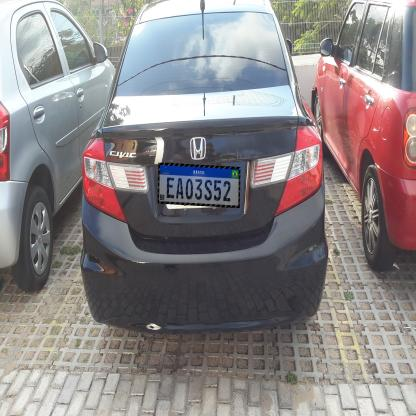PlacaM: (158, 163, 240, 208)
